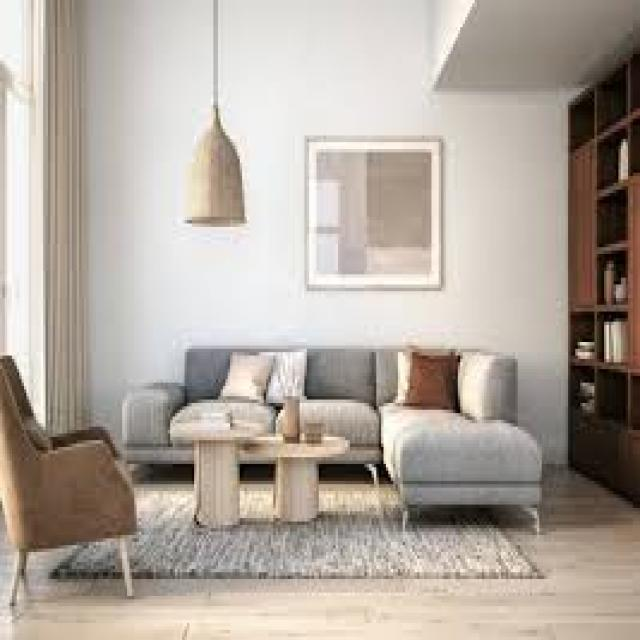Chair: (0, 340, 142, 630)
Lamp: (160, 100, 256, 236)
Sofa: (102, 312, 559, 532)
Table: (187, 423, 337, 533)
